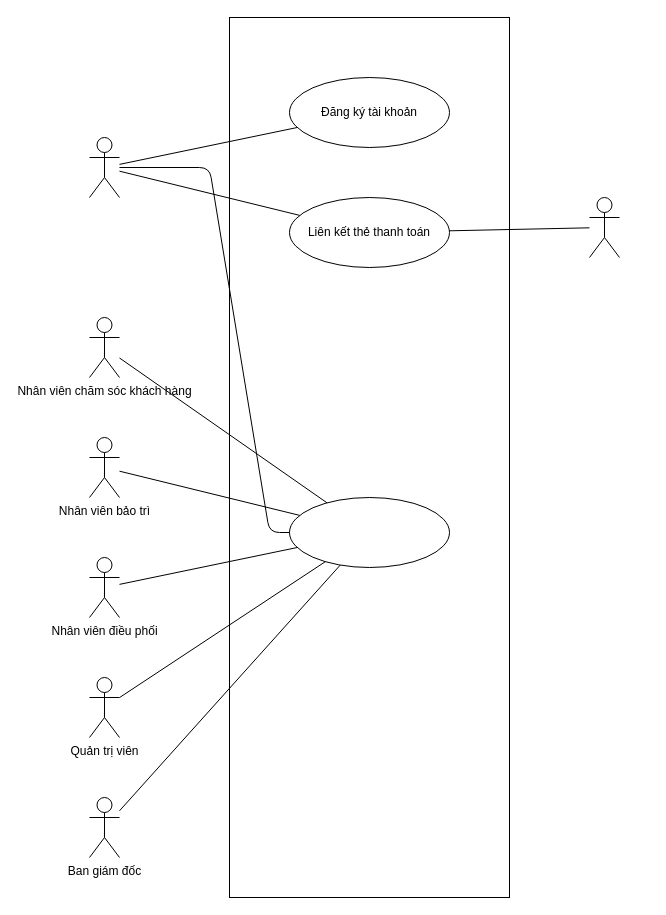
Some shapes in this 666 by 915 pixel diagram are drawn without their labels. The shapes that lost their labels are listed below. From the top down, each one's box as (x1, y1, x2, y2) in pixels, then its label:
(88, 136, 120, 198): Người thuê xe
(588, 196, 620, 258): «system» Cổng thanh toán
(228, 16, 510, 898): Hệ thống cho thuê xe đạp công cộng CityBike
(288, 496, 450, 568): Đăng nhập
